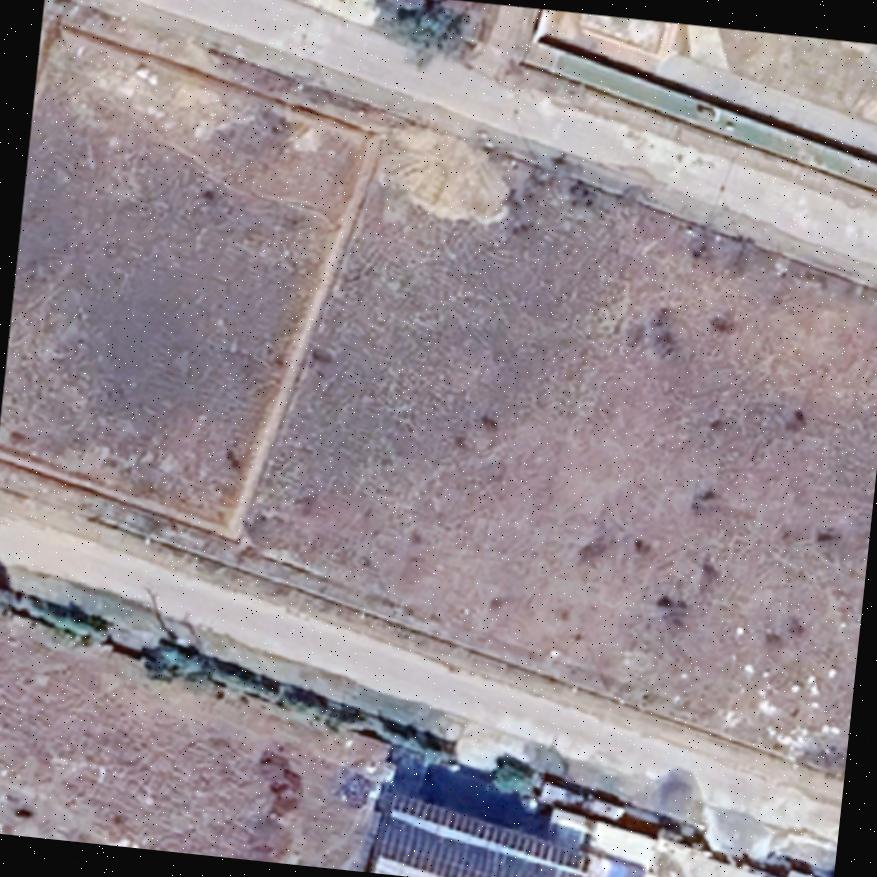Solarpanel: (370, 776, 606, 877), (368, 812, 584, 877)
